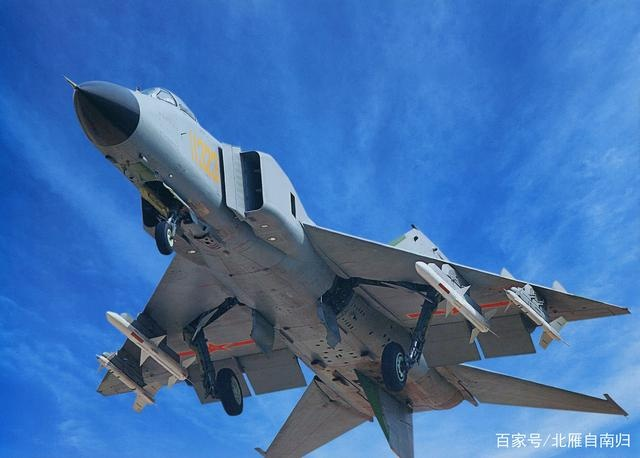airplane: (59, 66, 640, 458)
